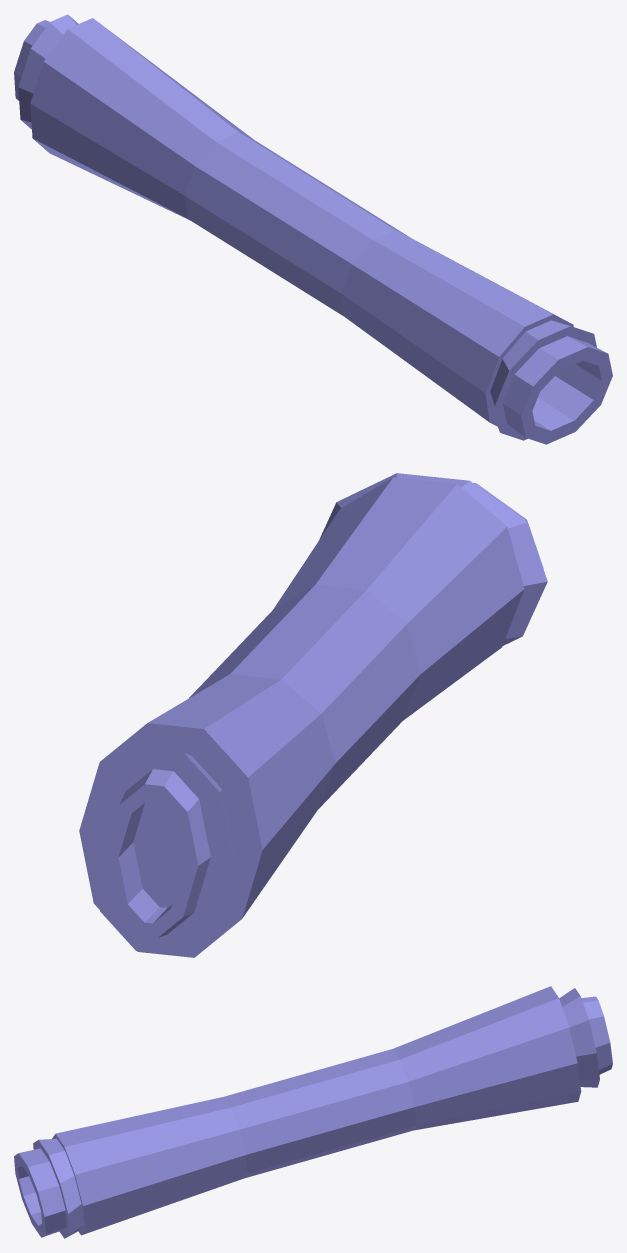
The model's file is CharlesBlueprintsV2.fbx.
3 views of the same model, one above another, from view 1: azimuth 30°, elevation 25°; view 2: azimuth 150°, elevation 25°; view 3: azimuth 270°, elevation 25° (orthographic). The views are drawn at different scales.
Parts seen in each view (by area): view 1: Charles Blueprints; view 2: Charles Blueprints; view 3: Charles Blueprints.
Part boxes in pixels (x1,y1,x2,y2): Charles Blueprints: [14, 14, 612, 444]; Charles Blueprints: [79, 473, 547, 957]; Charles Blueprints: [14, 986, 612, 1238].
Size of the model in its own units: 135 by 56.52 by 44.55.
